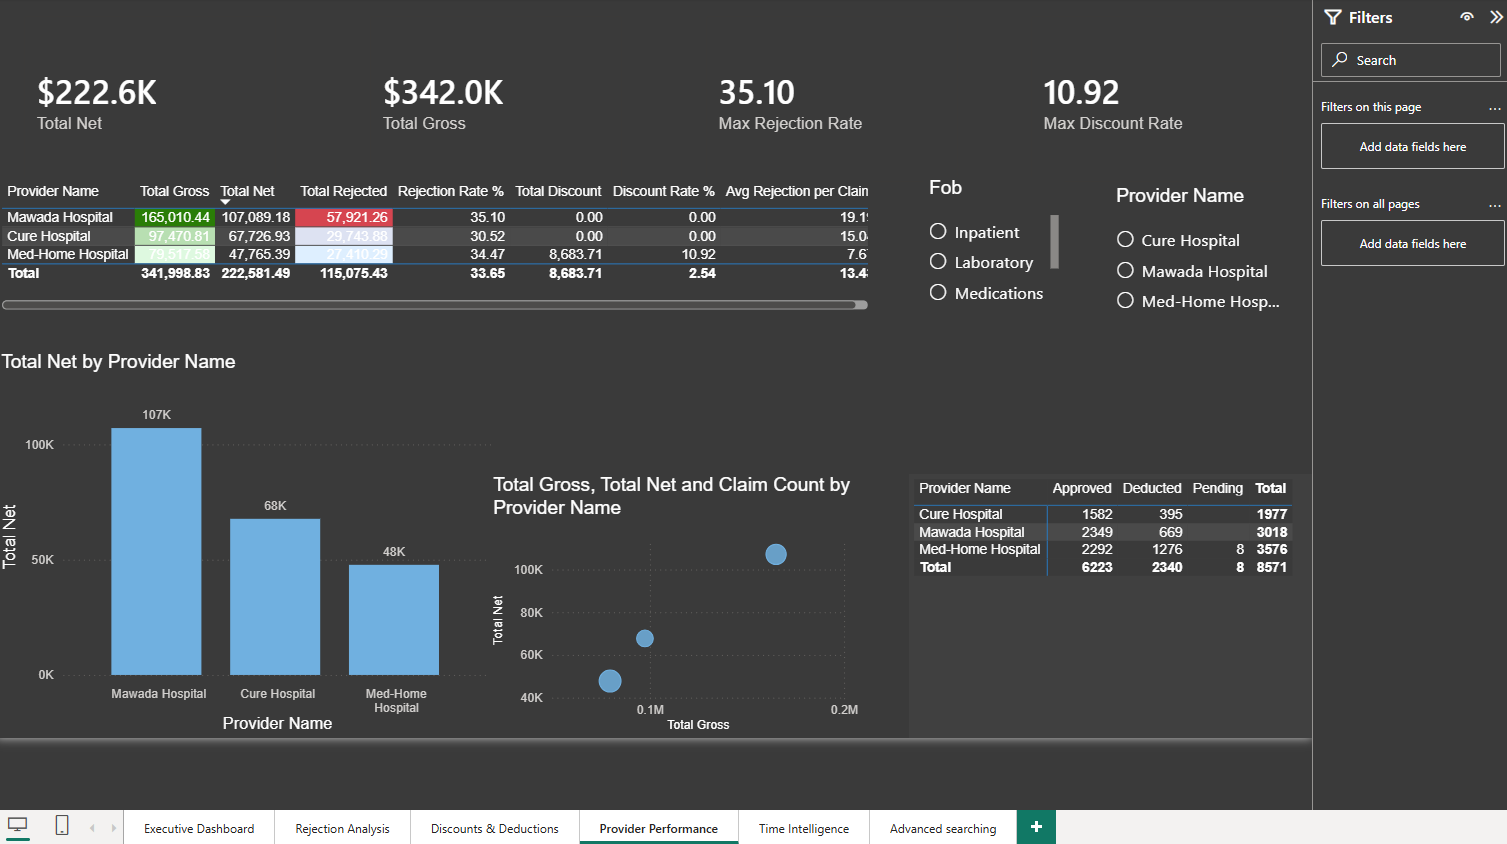

The page's visual inventory and layout, read from the dashboard file:
{"tool":"powerbi","page":{"name":"Claims Details","canvas":[1280,720],"ordinal":3},"visuals":[{"type":"cardVisual","fields":{"Data":["claims.Total Net"]},"box":[9.8,0,280.4,196.7],"z":0},{"type":"cardVisual","fields":{"Data":["claims.Max Discount Rate"]},"box":[989.1,0,280.4,196.7],"z":1000},{"type":"cardVisual","fields":{"Data":["claims.Max Rejection Rate"]},"box":[672.8,0,280.4,196.7],"z":2000},{"type":"cardVisual","fields":{"Data":["claims.Total Gross"]},"box":[346.7,0,280.4,196.7],"z":3000},{"type":"tableEx","fields":{"Values":["claims.Provider Name","claims.Total Gross","claims.Total Net","claims.Total Rejected","claims.Rejection Rate %","claims.Total Discount","claims.Discount Rate %","claims.Avg Rejection per Claim"]},"box":[0,173.9,853.3,133.7],"z":4000},{"type":"clusteredColumnChart","fields":{"Category":["claims.Provider Name"],"Y":["claims.Total Net"]},"box":[0,343.5,487,376.1],"z":5000},{"type":"pivotTable","fields":{"Rows":["claims.Provider Name"],"Columns":["claims.Status"],"Values":["claims.Claim Count"]},"box":[888,463,392.4,256.5],"z":6000},{"type":"scatterChart","fields":{"X":["claims.Total Gross"],"Y":["claims.Total Net"],"Category":["claims.Provider Name"],"Size":["claims.Claim Count"]},"box":[478.3,463,366.3,256.5],"z":7000},{"type":"listSlicer","fields":{"Values":["claims.Fob"]},"box":[902.2,173.9,137,131.5],"z":8000},{"type":"listSlicer","fields":{"Values":["claims.Provider Name"]},"box":[1084.5,181.9,171.2,141],"z":9000}]}

Visuals, with their boxes on the page's 1280x720 design canvas (x1, y1, x2, y2). These are canvas units, not pixel positions in the 1507x844 screenshot, which may show the page scaled, cropped or inside an application window:
cardVisual - claims.Total Net: left=10, top=0, right=290, bottom=197
cardVisual - claims.Max Discount Rate: left=989, top=0, right=1270, bottom=197
cardVisual - claims.Max Rejection Rate: left=673, top=0, right=953, bottom=197
cardVisual - claims.Total Gross: left=347, top=0, right=627, bottom=197
tableEx - claims.Provider Name x claims.Total Gross: left=0, top=174, right=853, bottom=308
clusteredColumnChart - claims.Provider Name x claims.Total Net: left=0, top=344, right=487, bottom=720
pivotTable - claims.Provider Name x claims.Status: left=888, top=463, right=1280, bottom=720
scatterChart - claims.Total Gross x claims.Total Net: left=478, top=463, right=845, bottom=720
listSlicer - claims.Fob: left=902, top=174, right=1039, bottom=305
listSlicer - claims.Provider Name: left=1084, top=182, right=1256, bottom=323
